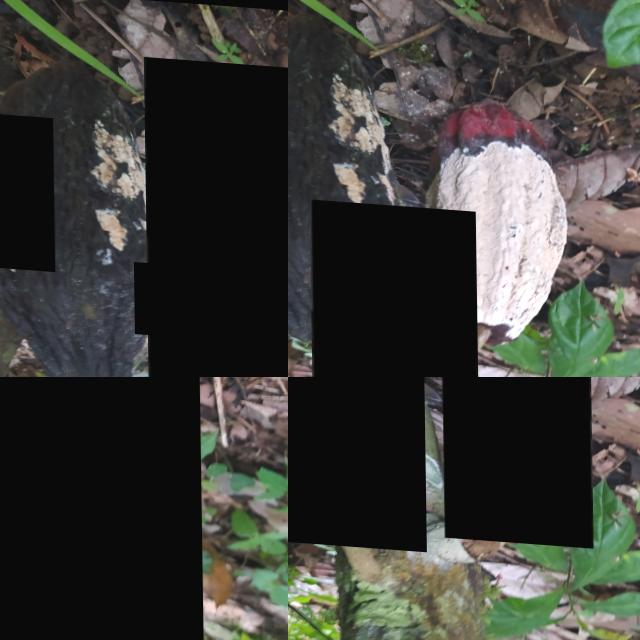Fitoftora: (0, 111, 54, 270)
Monilia: (0, 377, 202, 640), (441, 377, 591, 542), (288, 377, 425, 549)
Sana: (143, 54, 288, 377), (308, 197, 477, 377), (133, 259, 166, 333)
